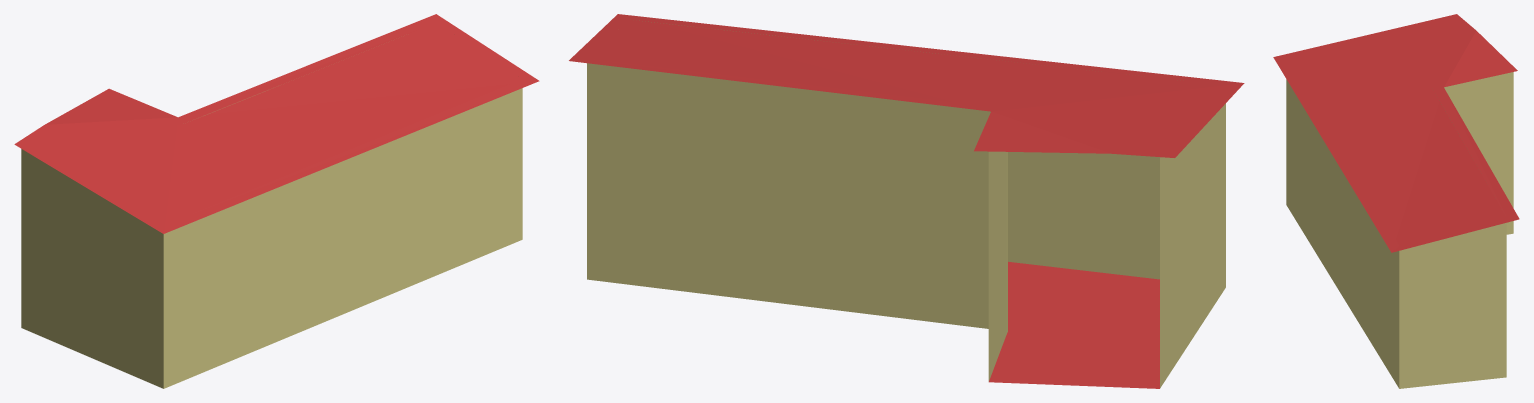
3 views of the same model, side by side, from view 1: azimuth 30°, elevation 25°; view 2: azimuth 150°, elevation 25°; view 3: azimuth 270°, elevation 25° (orthographic). The views are drawn at different scales.
Size of the model in its own units: 34.72 by 16.99 by 12.85.
